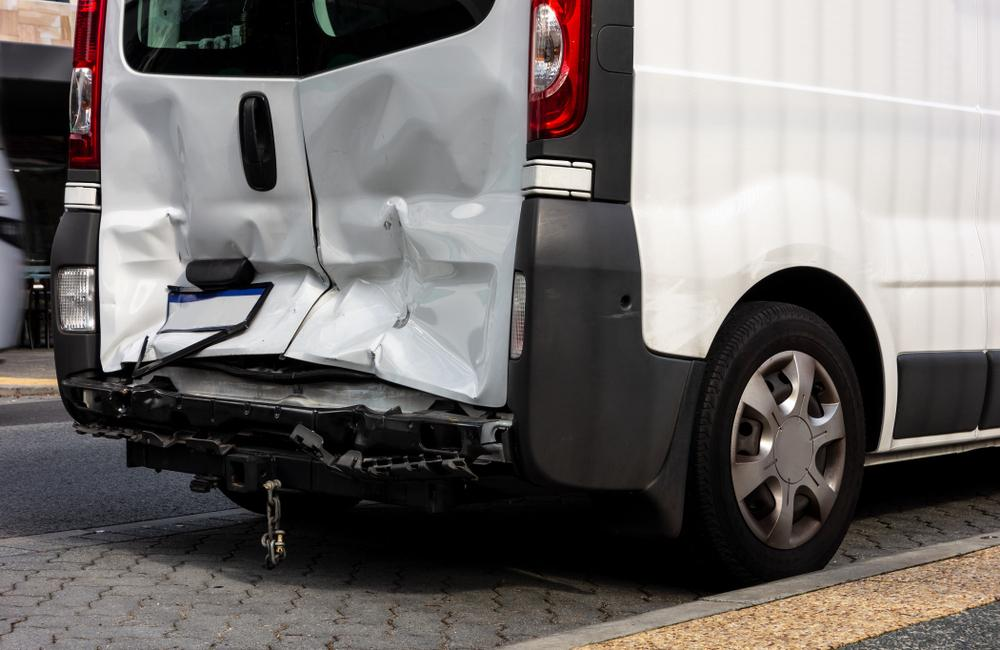dent: (296, 50, 529, 409), (100, 83, 306, 375)
